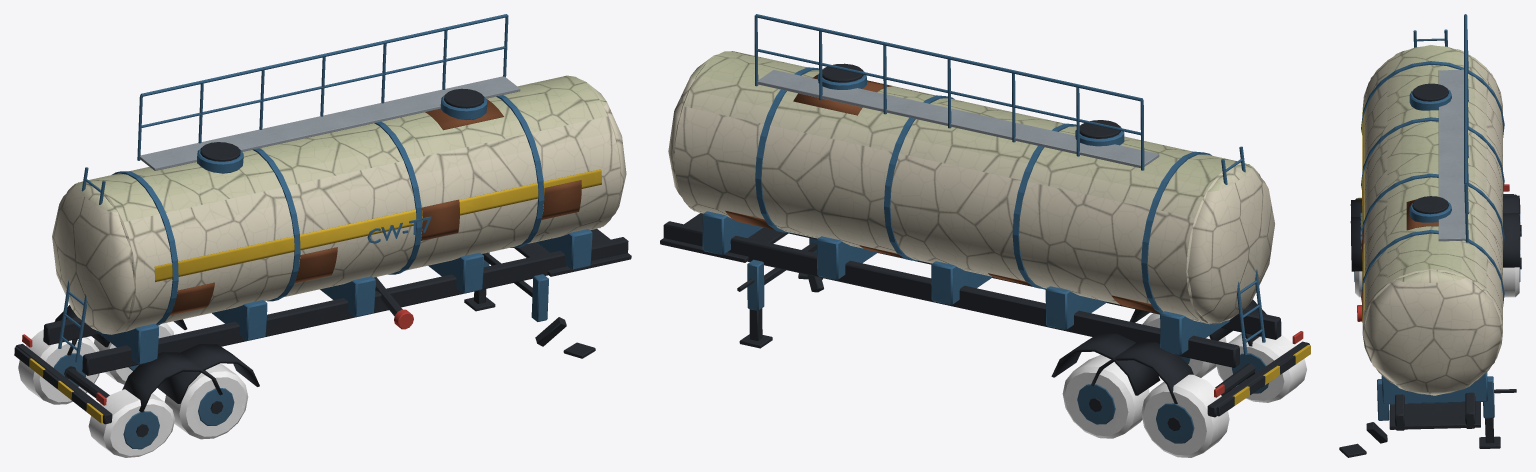
The model's file is tanker_trailer_wreck.glb.
3 renders of one model, left to right at view 1: azimuth 30°, elevation 25°; view 2: azimuth 150°, elevation 25°; view 3: azimuth 270°, elevation 25°, orthographic. The views are drawn at different scales.
Parts seen in each view (by area): view 1: tanker_trailer_wreck; view 2: tanker_trailer_wreck; view 3: tanker_trailer_wreck.
Part boxes in pixels (left/top/right/bottom): tanker_trailer_wreck: left=14, top=14, right=631, bottom=457; tanker_trailer_wreck: left=660, top=14, right=1310, bottom=457; tanker_trailer_wreck: left=1339, top=14, right=1521, bottom=457.
Size of the model in its own units: 8.1 by 4.34 by 2.6.
Materials: 15 (15 with a texture image).
